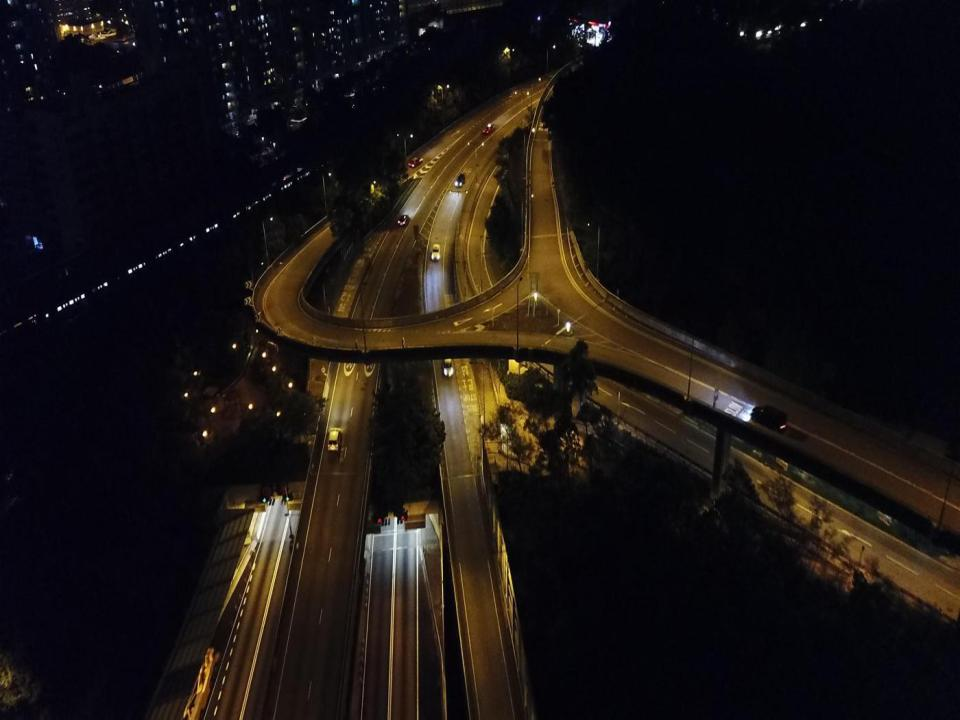car: (750, 405, 789, 432), (327, 427, 342, 452), (442, 354, 454, 378), (407, 155, 423, 168), (454, 172, 466, 188), (396, 214, 410, 227), (431, 243, 440, 261), (482, 122, 495, 134)
